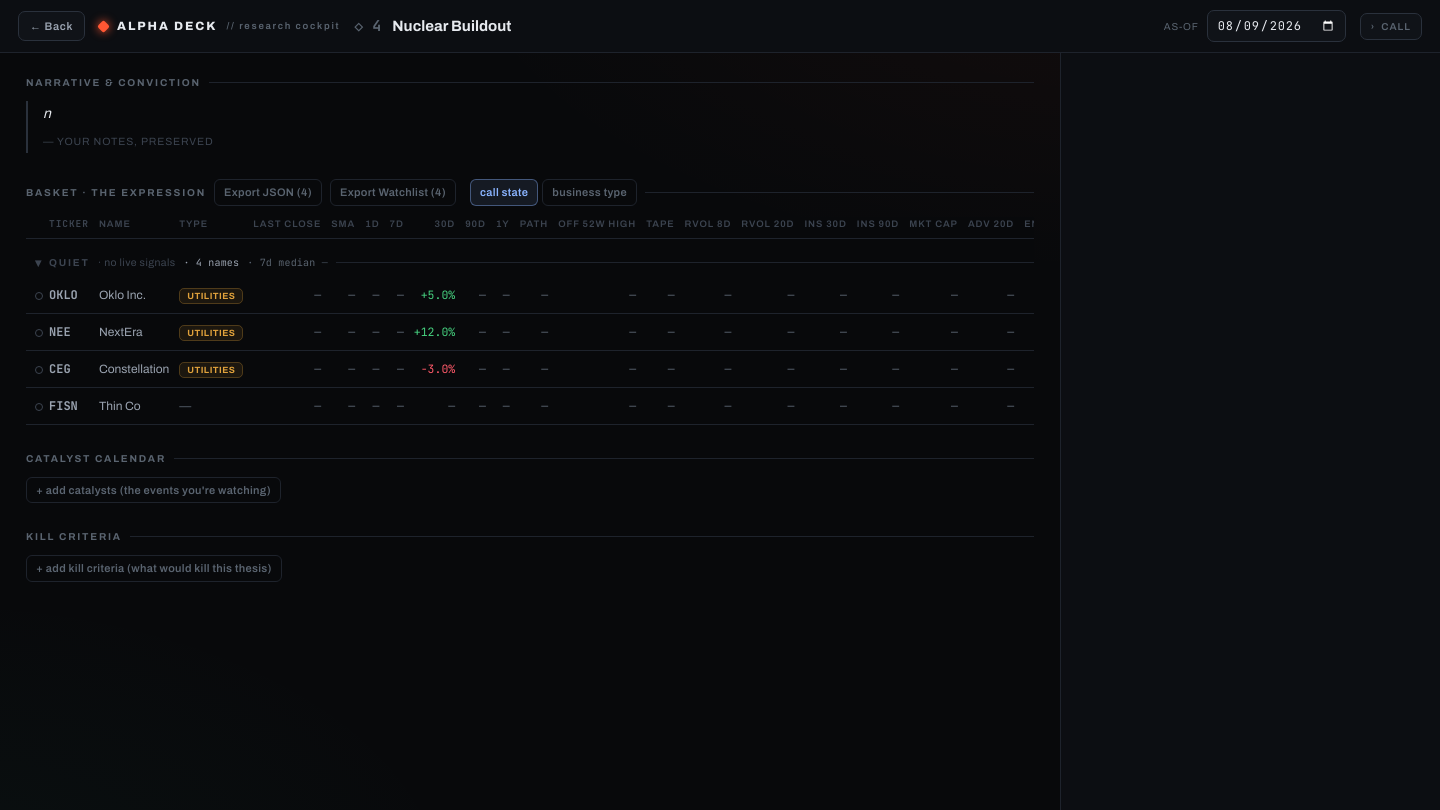
Cockpit — sortable basket columns (within-group) › turns sort off on the third click and restores the default order
What coordinates should you click on to do the following:
click the button with class "th-sort" showing "30d"
I would click on:
 (445, 224)
Its box is top-left (434, 217), bottom-right (455, 231).
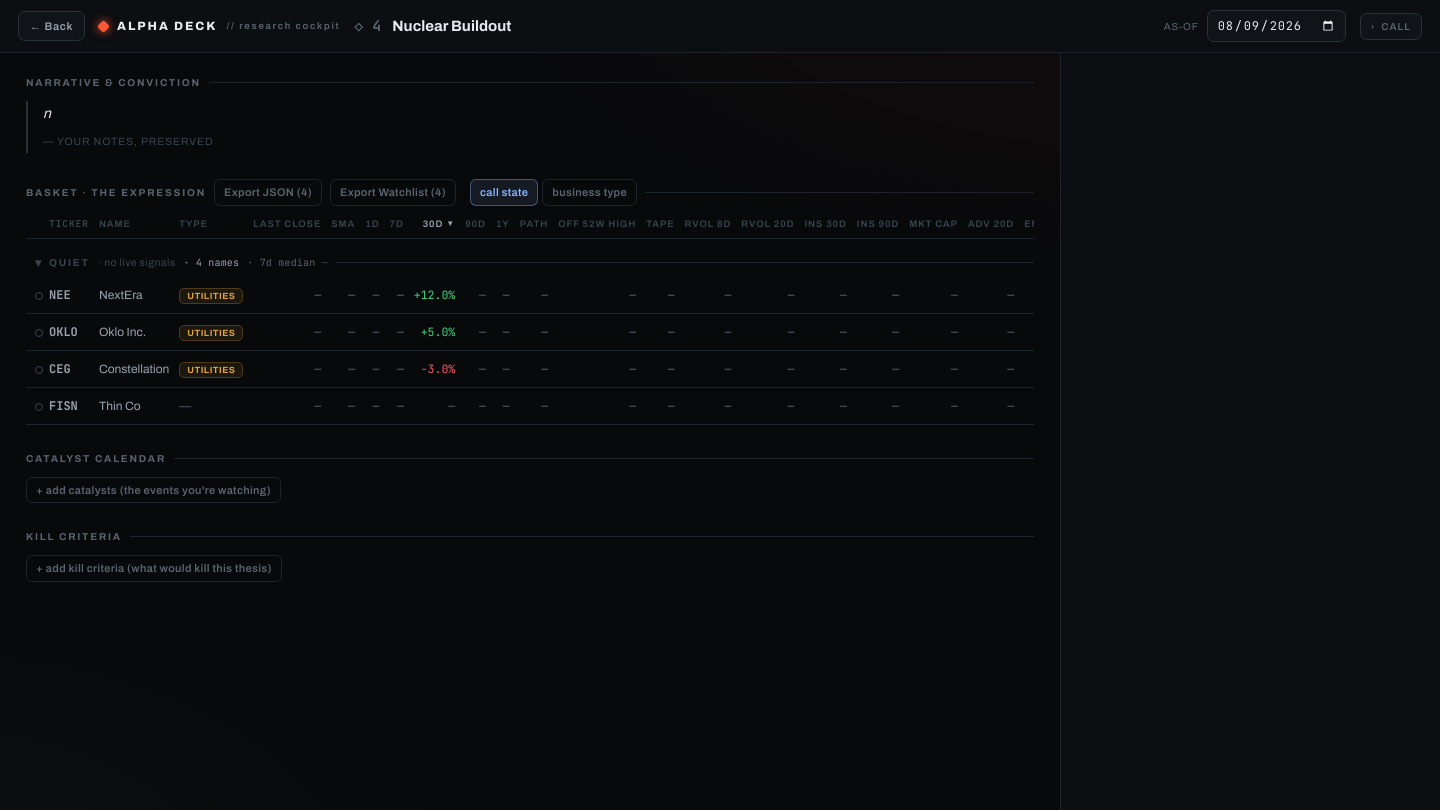
What coordinates should you click on to do the following:
click the button with class "th-sort" showing "30d ▼"
I would click on:
 (439, 224)
Its box is top-left (423, 217), bottom-right (455, 231).
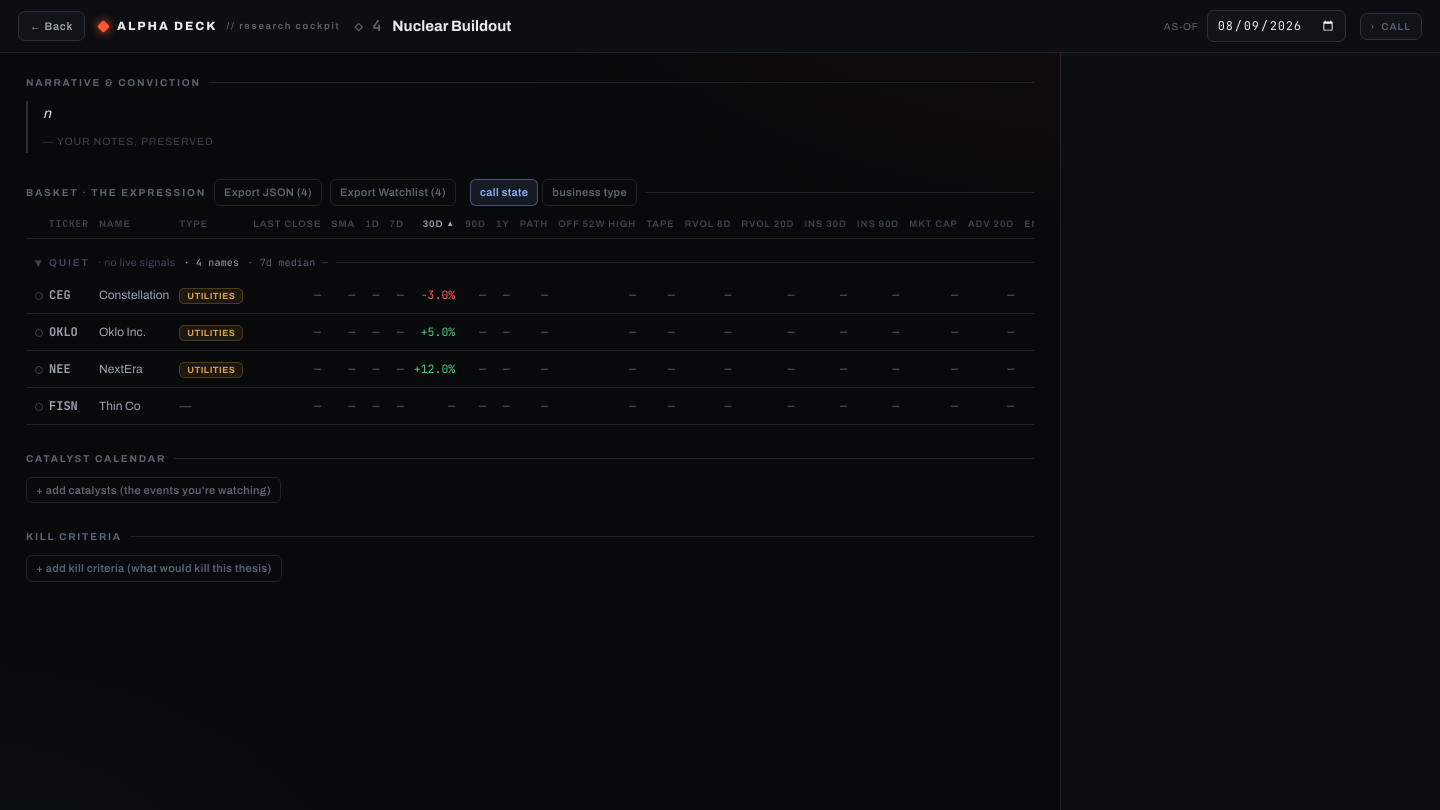
What coordinates should you click on to do the following:
click the button with class "th-sort" showing "30d ▲"
I would click on:
 (439, 224)
Its box is top-left (423, 217), bottom-right (455, 231).
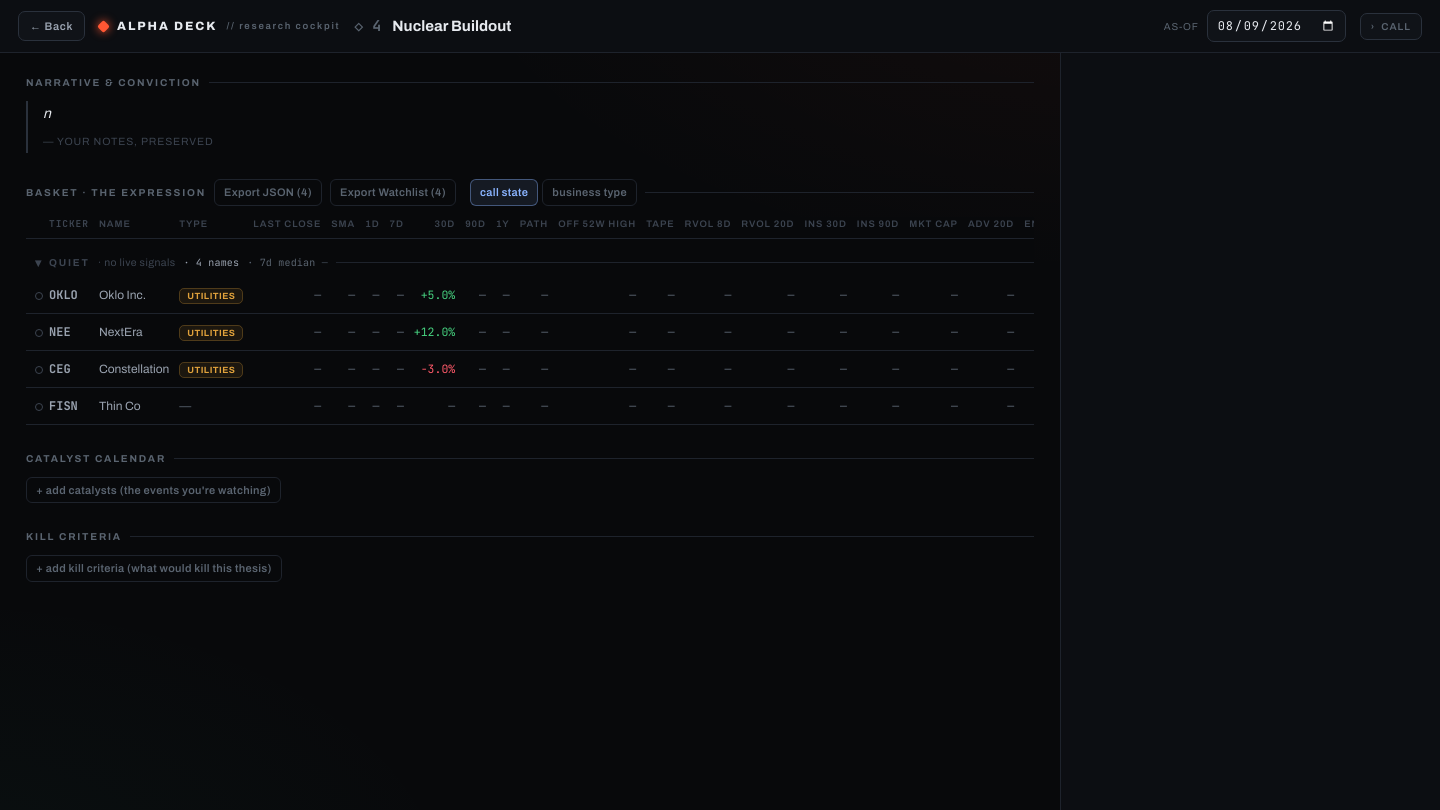
Check: the text with class "th-arrow" is gone
